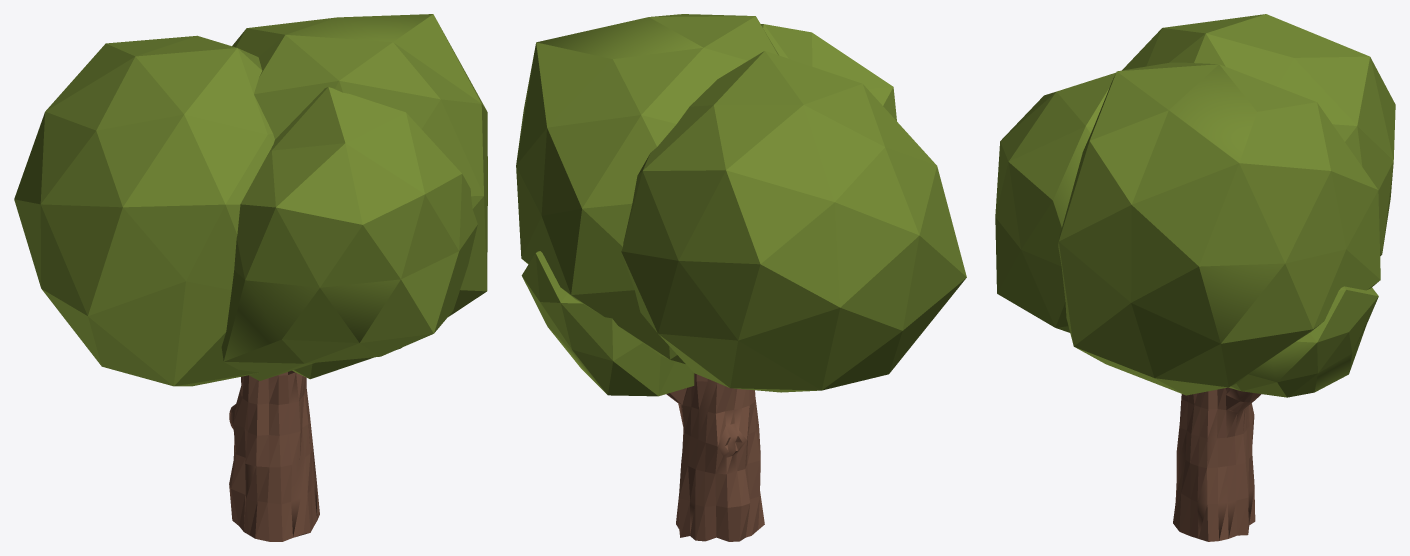
Rendered from tree.dae.
3 views of the same model, side by side, from view 1: azimuth 30°, elevation 25°; view 2: azimuth 150°, elevation 25°; view 3: azimuth 270°, elevation 25° (orthographic). The views are drawn at different scales.
Parts seen in each view (by area): view 1: Icosphere, Cylinder; view 2: Icosphere, Cylinder; view 3: Icosphere, Cylinder.
Boxes of the visible parts, left/top/right/bottom form: Icosphere: left=14, top=14, right=487, bottom=386; Cylinder: left=229, top=370, right=319, bottom=541; Icosphere: left=516, top=14, right=966, bottom=396; Cylinder: left=666, top=373, right=764, bottom=541; Icosphere: left=995, top=14, right=1395, bottom=397; Cylinder: left=1173, top=387, right=1261, bottom=541.
Bounding box in the file's own units: 10.32 × 8.78 × 11.42.
